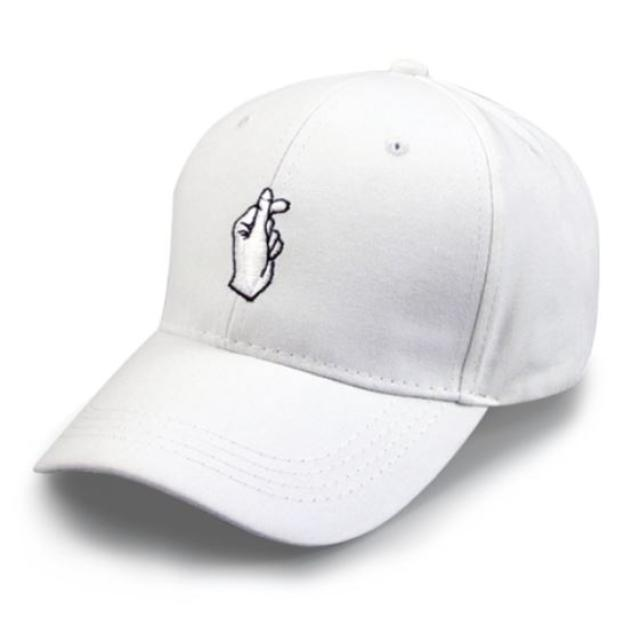Cap: (25, 50, 614, 563)
